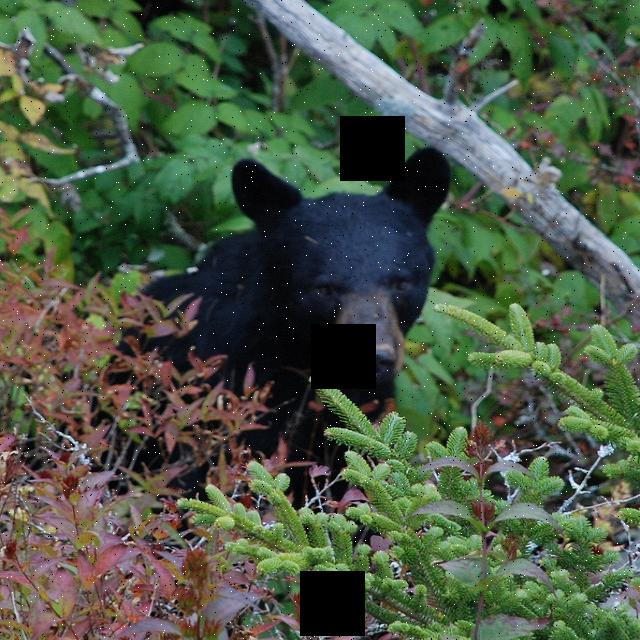Bear: (115, 149, 472, 447)
